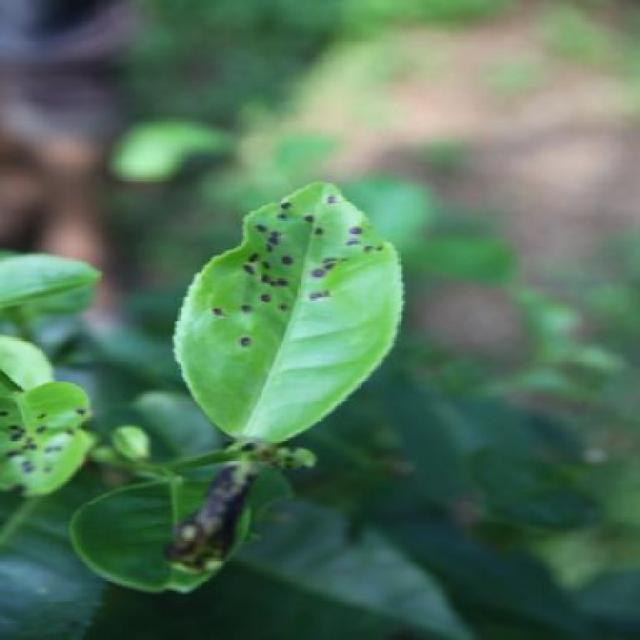Tea Mosquito bug infested leaf: (171, 162, 391, 438)
